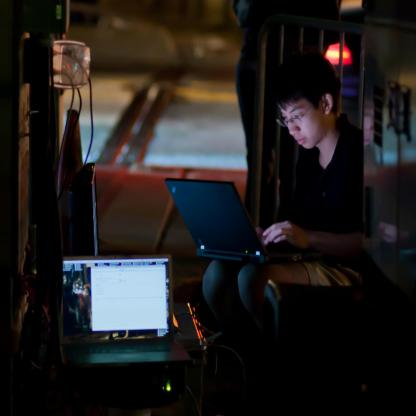board: (54, 251, 176, 367), (165, 177, 301, 263)
